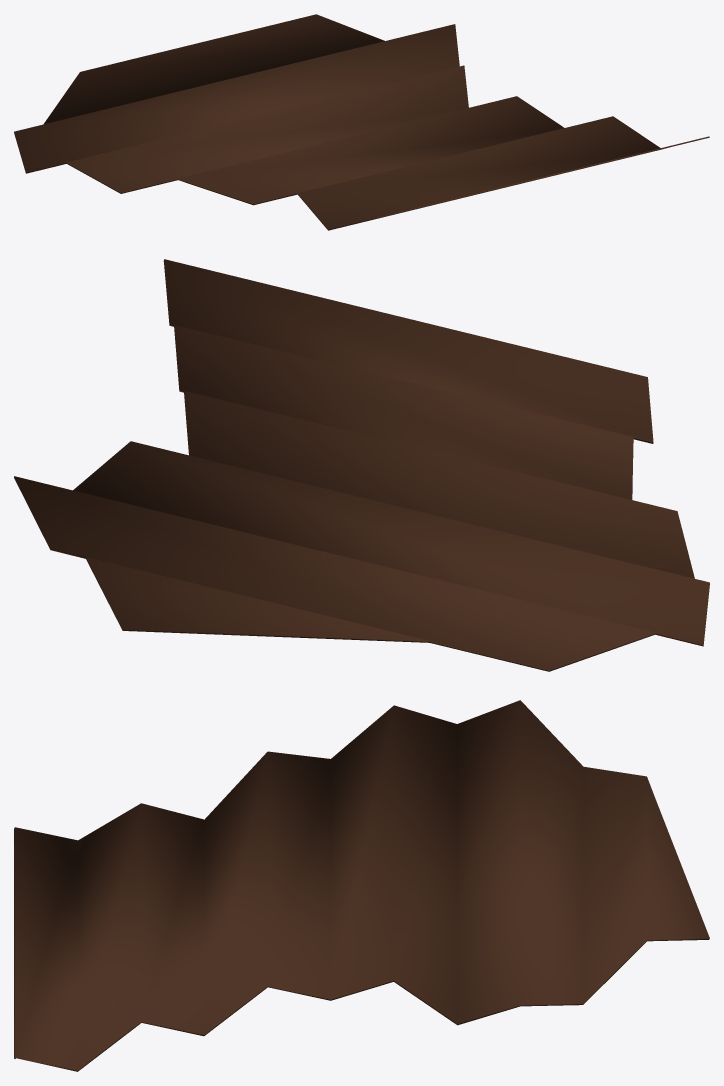
The model's file is scrap4.fbx.
3 renders of one model, top to bottom at view 1: azimuth 30°, elevation 25°; view 2: azimuth 150°, elevation 25°; view 3: azimuth 270°, elevation 25°, orthographic. The views are drawn at different scales.
Visible parts, largest first — view 1: part4; view 2: part4; view 3: part4.
Boxes of the visible parts, bbox=[...] form: part4: bbox=[14, 14, 709, 230]; part4: bbox=[14, 259, 709, 671]; part4: bbox=[14, 700, 709, 1071].
Size of the model in its own units: 45.55 by 1.92 by 36.79.
